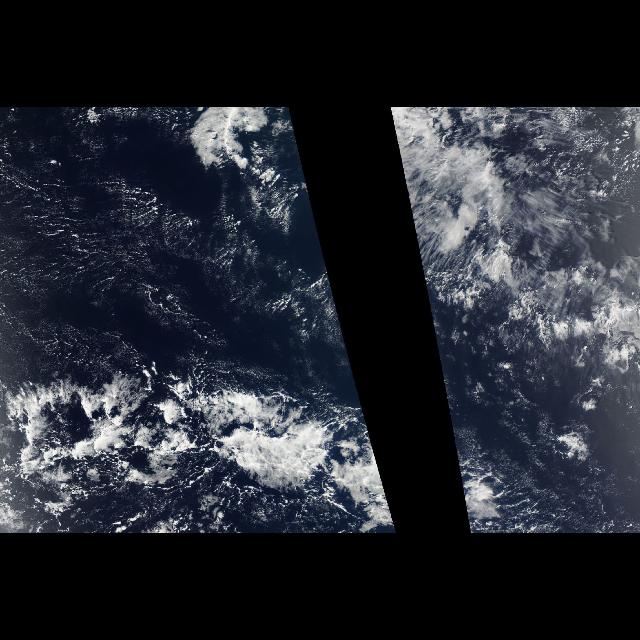Fish: (28, 353, 396, 533), (436, 353, 542, 533)
Sugar: (1, 154, 260, 344)
